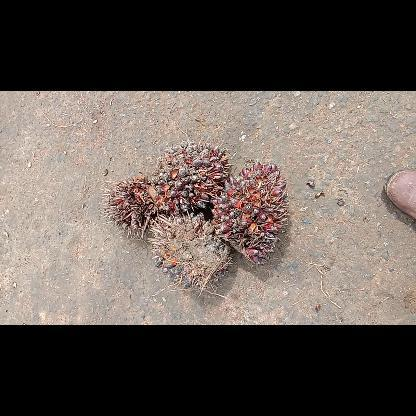TBS abnormal: (211, 161, 288, 263), (148, 213, 233, 291), (151, 138, 233, 212), (100, 176, 174, 238)
